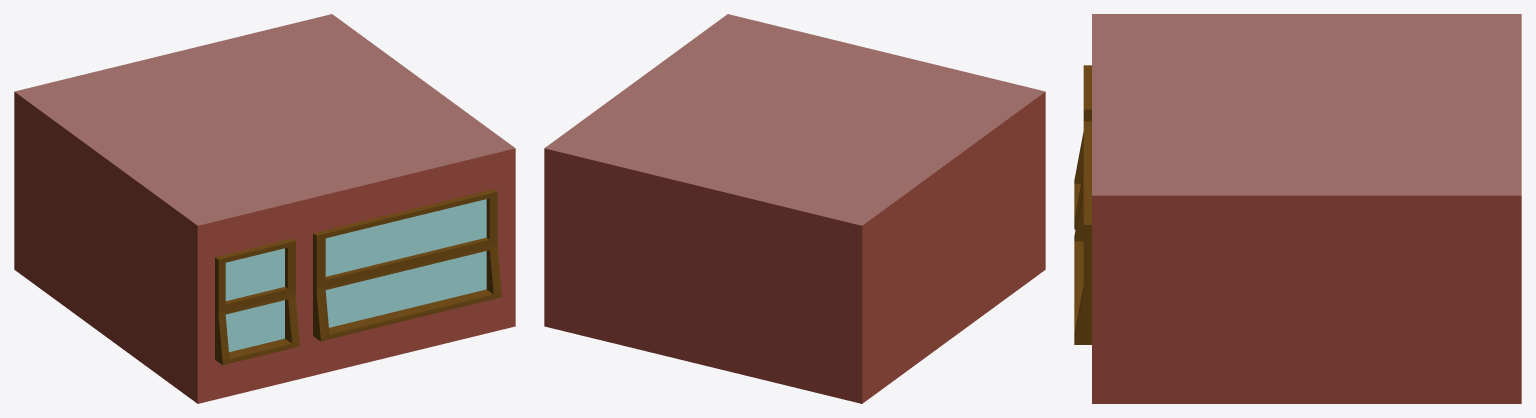
The model's file is LevelV4.fbx.
The picture shows the model from 3 angles, left to right: view 1: azimuth 30°, elevation 25°; view 2: azimuth 150°, elevation 25°; view 3: azimuth 270°, elevation 25°; orthographic projection. The views are drawn at different scales.
Visible parts, largest first — view 1: pCube6, pCube7, pCube8; view 2: pCube6; view 3: pCube6, pCube7, pCube8.
Boxes of the visible parts, left/top/right/bottom form: pCube6: left=14, top=14, right=515, bottom=403; pCube7: left=313, top=189, right=501, bottom=341; pCube8: left=215, top=238, right=299, bottom=365; pCube6: left=544, top=14, right=1045, bottom=403; pCube6: left=1092, top=14, right=1521, bottom=403; pCube7: left=1074, top=121, right=1091, bottom=344; pCube8: left=1074, top=65, right=1091, bottom=229.
Size of the model in its own units: 25 by 13.39 by 26.02.
